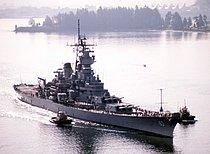MIL_Ship: (10, 25, 182, 142)
